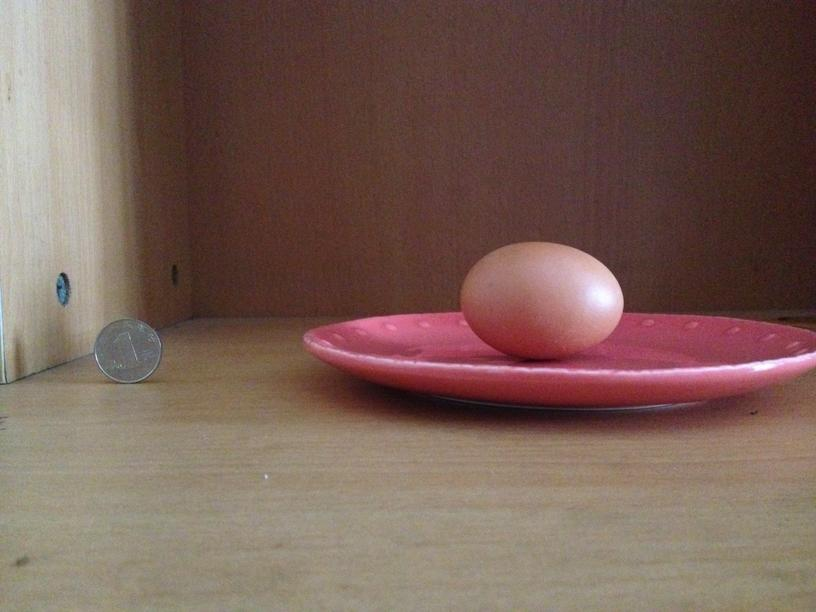coin: (93, 316, 160, 384)
egg: (455, 238, 626, 358)
